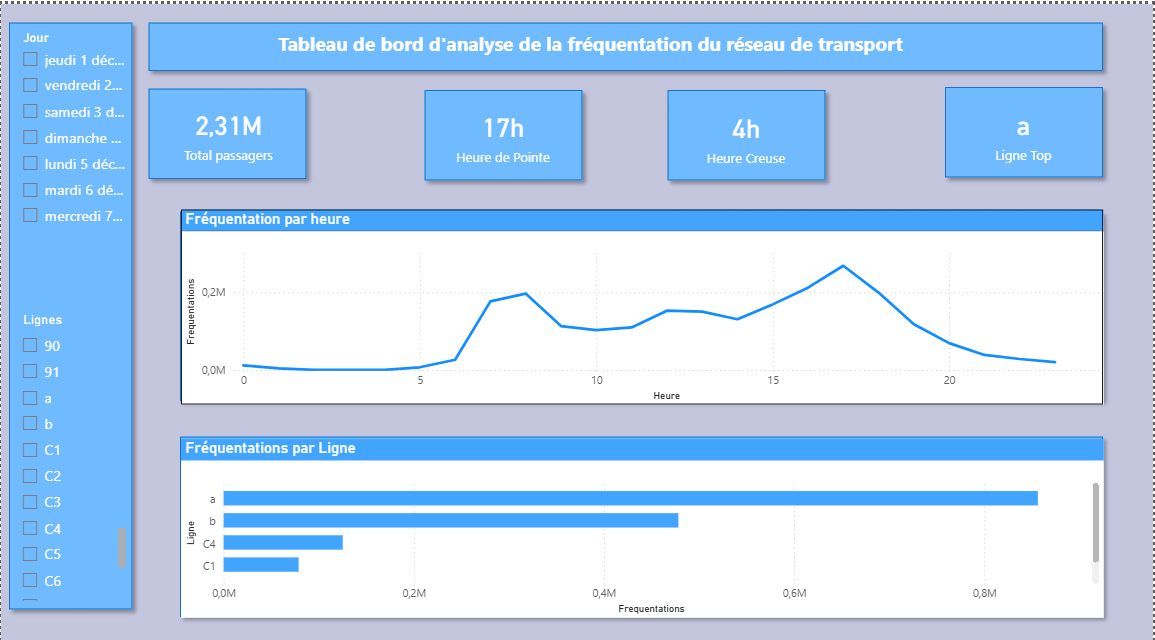

The page's visual inventory and layout, read from the dashboard file:
{"tool":"powerbi","page":{"name":"Page 1","canvas":[1280,720],"ordinal":0},"visuals":[{"type":"shape","box":[155,11.7,1078.3,71.7],"z":0},{"type":"shape","box":[155,85,193.3,118.3],"z":1000},{"type":"shape","box":[190,221.7,1043.3,228.3],"z":2000},{"type":"shape","box":[190,471.7,1043.3,218.3],"z":2000},{"type":"shape","box":[461.7,86.7,193.3,118.3],"z":3000},{"type":"shape","box":[731.7,86.7,193.3,118.3],"z":4000},{"type":"shape","box":[1040,83.3,193.3,118.3],"z":5000},{"type":"textbox","box":[278.9,23.3,753.3,50],"z":6000},{"type":"card","fields":{"Values":["frequentation_star.Total passagers"]},"box":[170,93.3,165,100],"z":7000},{"type":"card","fields":{"Values":["frequentation_star.Heure de Pointe"]},"box":[475,95,165,100],"z":8000},{"type":"card","fields":{"Values":["frequentation_star.Heure Creuse"]},"box":[745,96.7,165,100],"z":9000},{"type":"card","fields":{"Values":["frequentation_star.Ligne Top"]},"box":[1053.3,93.3,165,100],"z":10000},{"type":"lineChart","title":"Fréquentation par heure","fields":{"Category":["frequentation_star.Heure"],"Y":["Sum(frequentation_star.Frequentation)"]},"box":[200,228.3,1025,216.7],"z":11000},{"type":"clusteredBarChart","title":" Fréquentations par Ligne","fields":{"Category":["frequentation_star.NomCourtLigne"],"Y":["Sum(frequentation_star.Frequentation)"]},"box":[200,483.3,1025,198.3],"z":12000},{"type":"shape","box":[0,11.7,155,670],"z":13000},{"type":"slicer","fields":{"Values":["frequentation_star.NomCourtLigne"]},"box":[11.7,336.7,131.7,331.7],"z":14000},{"type":"slicer","fields":{"Values":["frequentation_star.DateFreq"]},"box":[11.7,23.3,131.7,313.3],"z":14001}]}

Visuals, with their boxes in screenshot pixels (x1, y1, x2, y2), scaled from the page's 1280x720 canvas onto the 1155x640 screenshot:
shape: left=140, top=10, right=1113, bottom=74
shape: left=140, top=76, right=314, bottom=181
shape: left=171, top=197, right=1113, bottom=400
shape: left=171, top=419, right=1113, bottom=613
shape: left=417, top=77, right=591, bottom=182
shape: left=660, top=77, right=835, bottom=182
shape: left=938, top=74, right=1113, bottom=179
textbox: left=252, top=21, right=931, bottom=65
card - frequentation_star.Total passagers: left=153, top=83, right=302, bottom=172
card - frequentation_star.Heure de Pointe: left=429, top=84, right=578, bottom=173
card - frequentation_star.Heure Creuse: left=672, top=86, right=821, bottom=175
card - frequentation_star.Ligne Top: left=950, top=83, right=1099, bottom=172
"Fréquentation par heure" lineChart: left=180, top=203, right=1105, bottom=396
" Fréquentations par Ligne" clusteredBarChart: left=180, top=430, right=1105, bottom=606
shape: left=0, top=10, right=140, bottom=606
slicer - frequentation_star.NomCourtLigne: left=11, top=299, right=129, bottom=594
slicer - frequentation_star.DateFreq: left=11, top=21, right=129, bottom=299
